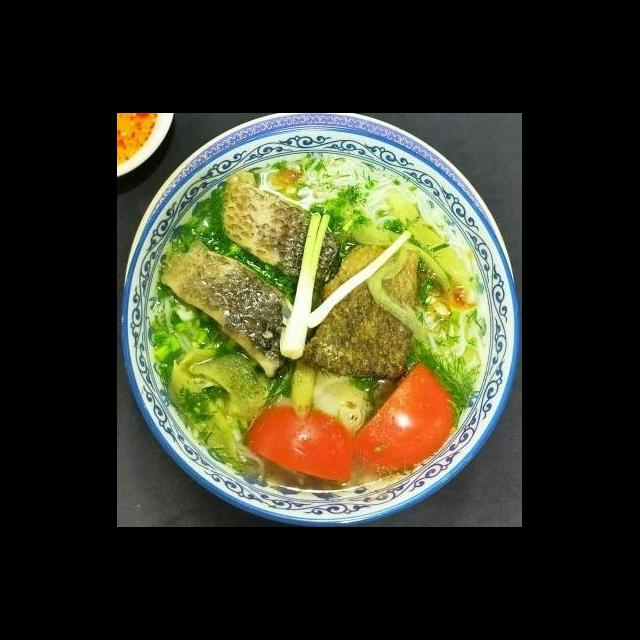bun: (258, 156, 436, 211), (422, 292, 492, 381)
bun ca: (124, 139, 522, 527)
ca: (156, 229, 300, 383), (292, 232, 424, 398), (215, 163, 348, 282)
